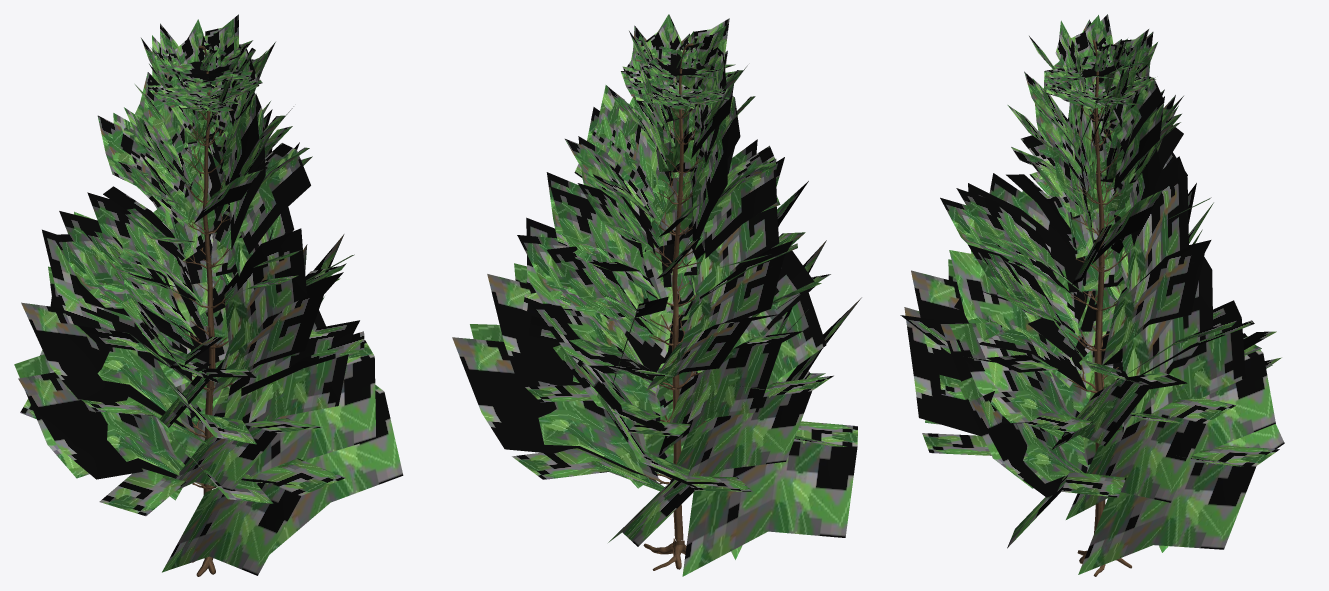
The model's file is parampara-tree-6.glb.
3 views of the same model, side by side, from view 1: azimuth 30°, elevation 25°; view 2: azimuth 150°, elevation 25°; view 3: azimuth 270°, elevation 25° (orthographic).
Visible parts, largest first — view 1: tree; view 2: tree; view 3: tree.
Boxes of the visible parts, x1,y1,x2,y2 form: tree: [14, 14, 403, 576]; tree: [452, 14, 861, 576]; tree: [900, 14, 1284, 576].
Size of the model in its own units: 8.88 by 12.76 by 9.02.
Materials: 1 (1 with a texture image).
